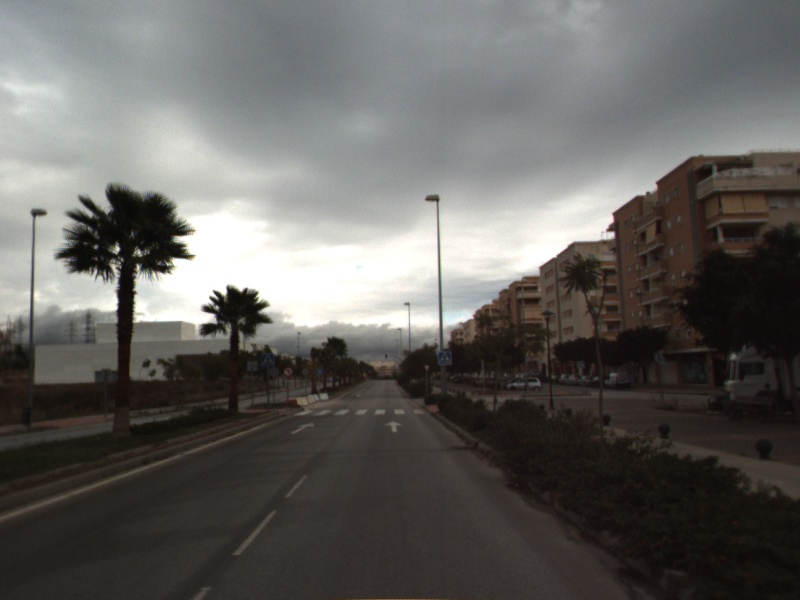STRAIGHT: (289, 420, 316, 435), (383, 419, 404, 434)
